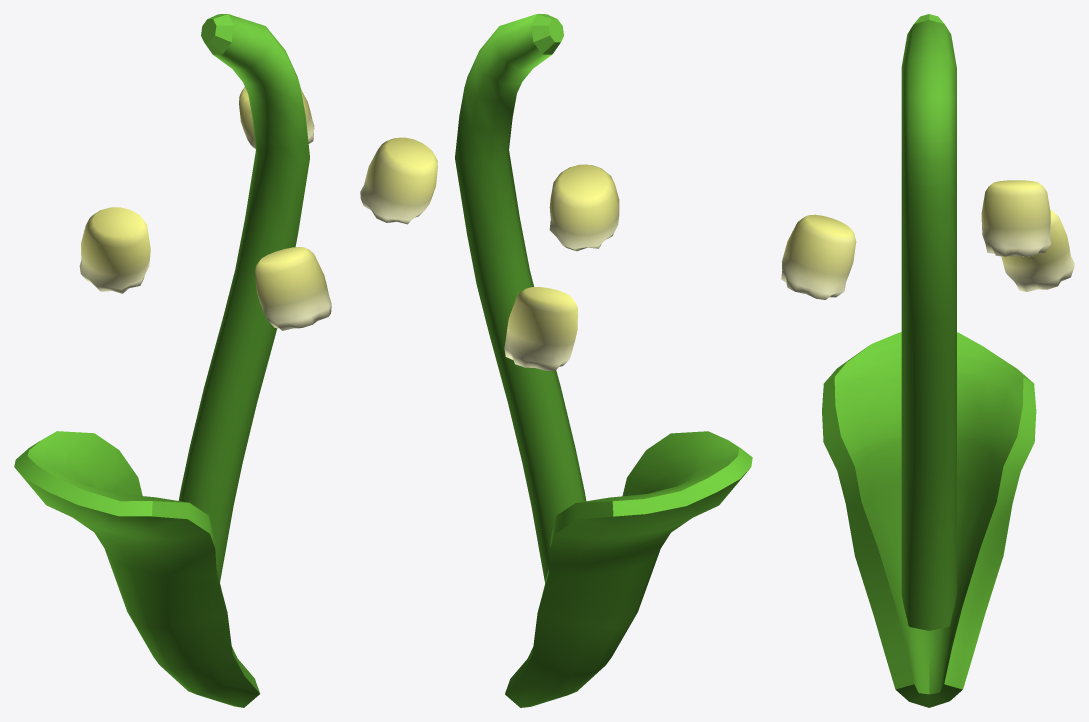
Rendered from LoveModel_StageB.FBX.
3 renders of one model, left to right at view 1: azimuth 30°, elevation 25°; view 2: azimuth 150°, elevation 25°; view 3: azimuth 270°, elevation 25°, orthographic.
Parts seen in each view (by area): view 1: stange_low; view 2: stange_low; view 3: stange_low.
Boxes of the visible parts, x1,y1,x2,y2 form: stange_low: (14, 14, 331, 707); stange_low: (360, 14, 752, 707); stange_low: (781, 14, 1074, 707).
Bounding box in the file's own units: 27.55 × 55.74 × 21.64.
